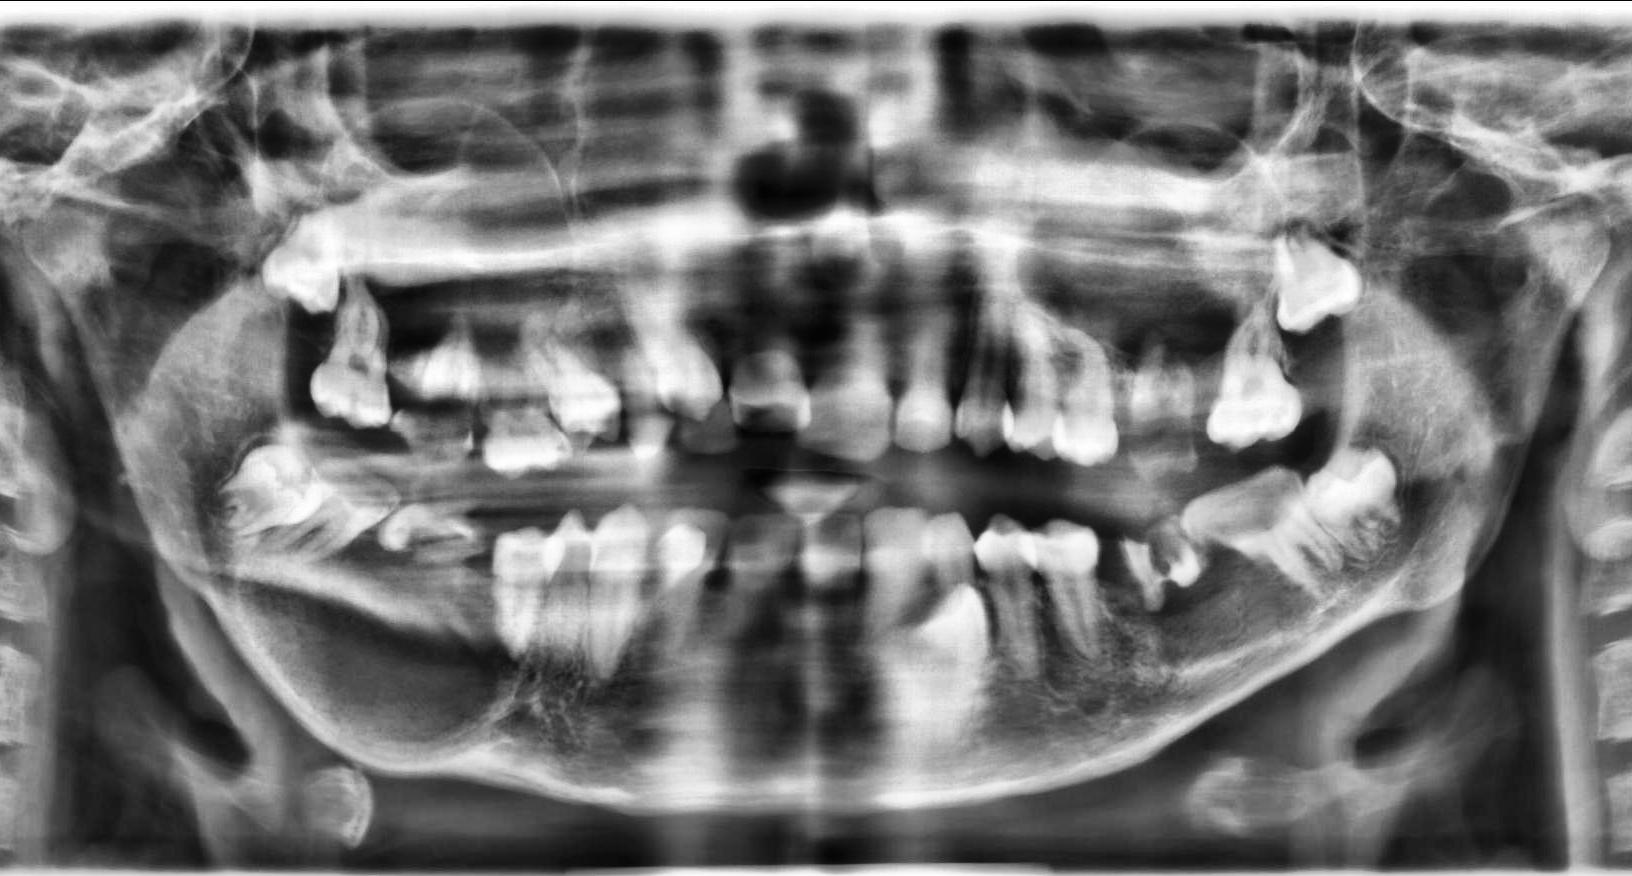radikuler: (1015, 121, 1286, 372), (321, 98, 579, 354), (235, 534, 542, 743)
